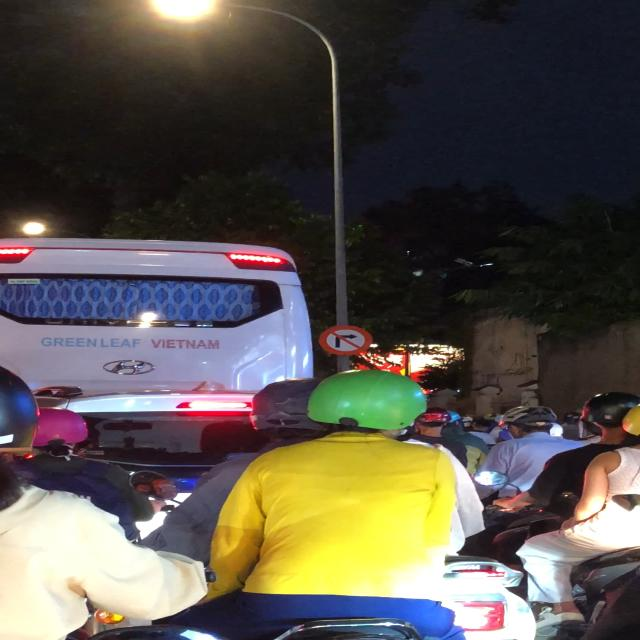Bien bao cam re phai: (315, 321, 378, 357)
